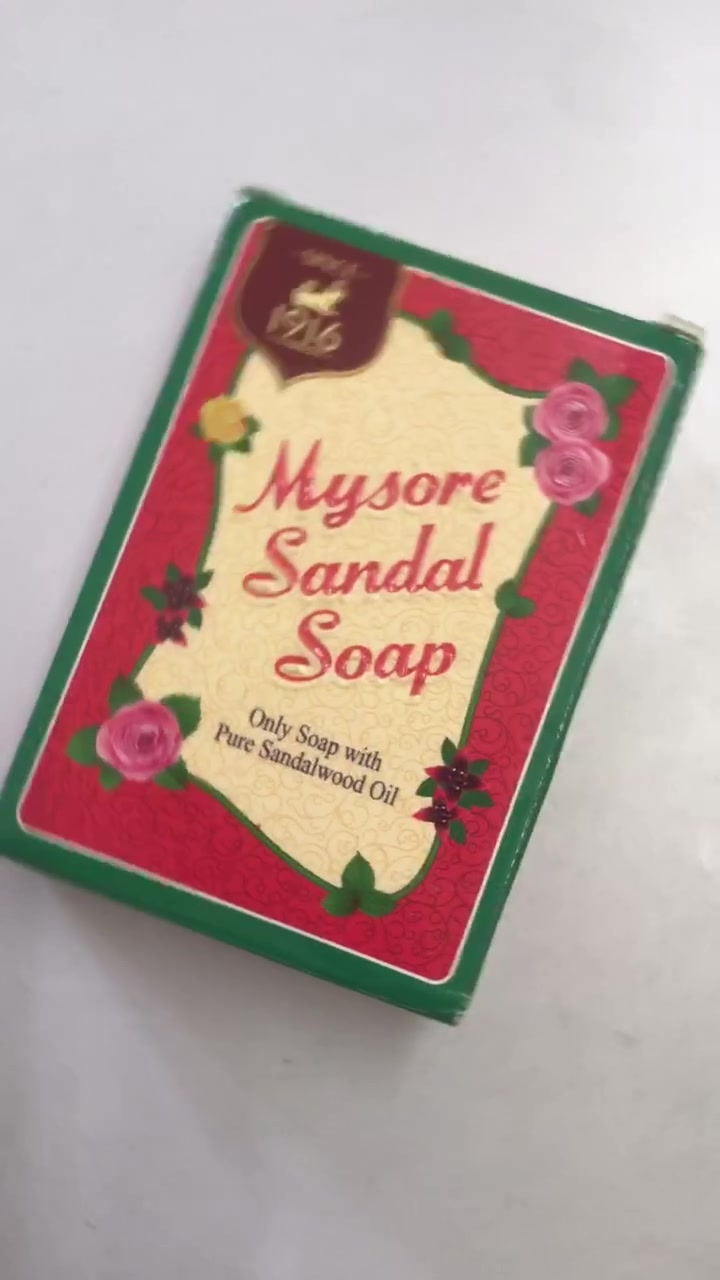mysore sandal soap: (1, 180, 699, 1028)
